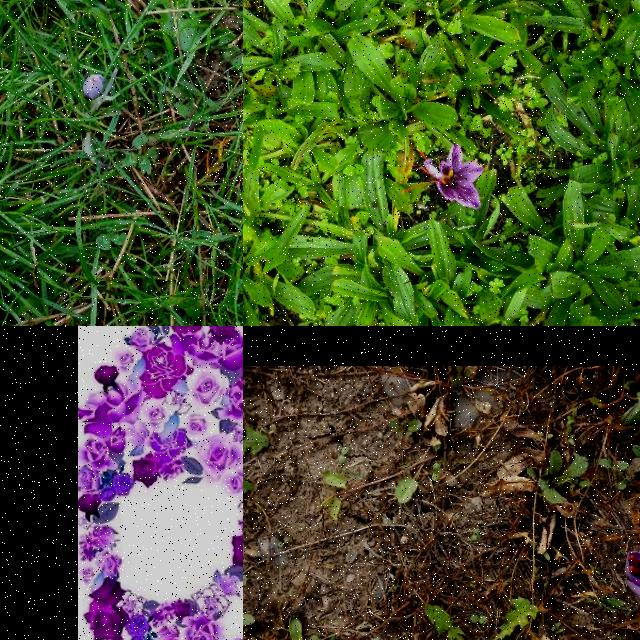flower: (424, 144, 484, 210), (623, 550, 640, 601), (82, 75, 104, 99)
